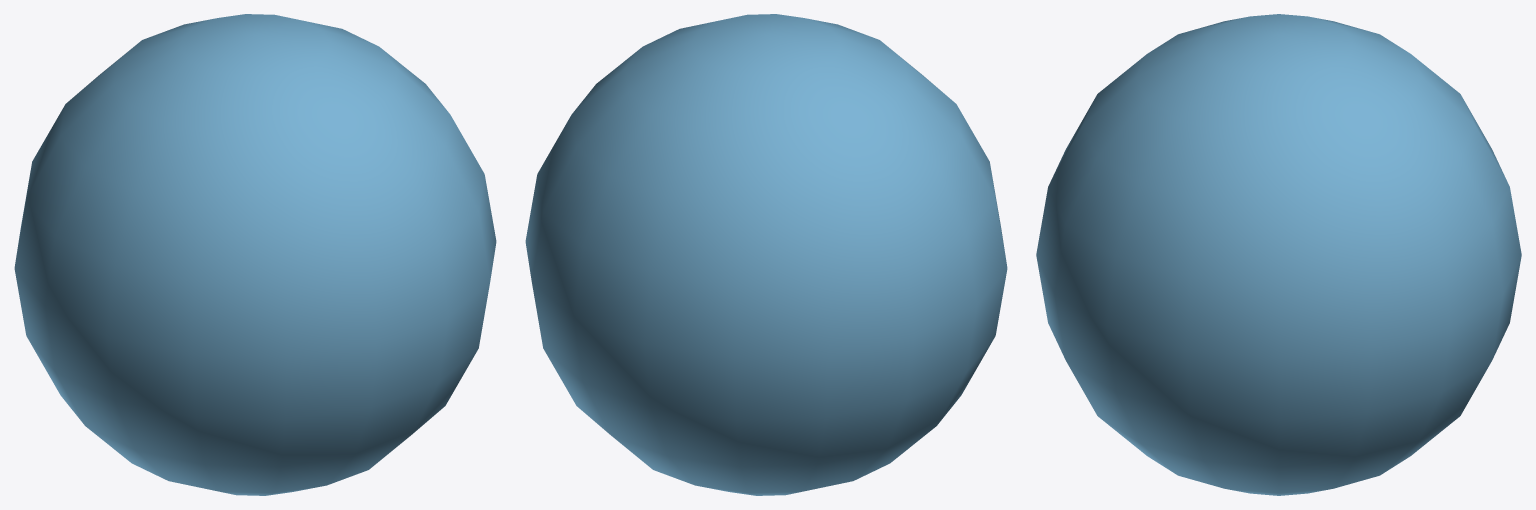
File: ava-blue-ball.glb
3 views of the same model, side by side, from view 1: azimuth 30°, elevation 25°; view 2: azimuth 150°, elevation 25°; view 3: azimuth 270°, elevation 25° (orthographic).
Parts seen in each view (by area): view 1: colored ball; view 2: colored ball; view 3: colored ball.
Part boxes in pixels (box(x1,y1,x2,y2)): colored ball: box(14, 14, 496, 495); colored ball: box(525, 14, 1007, 495); colored ball: box(1036, 14, 1521, 495).
Size of the model in its own units: 0.9 by 0.9 by 0.9.
